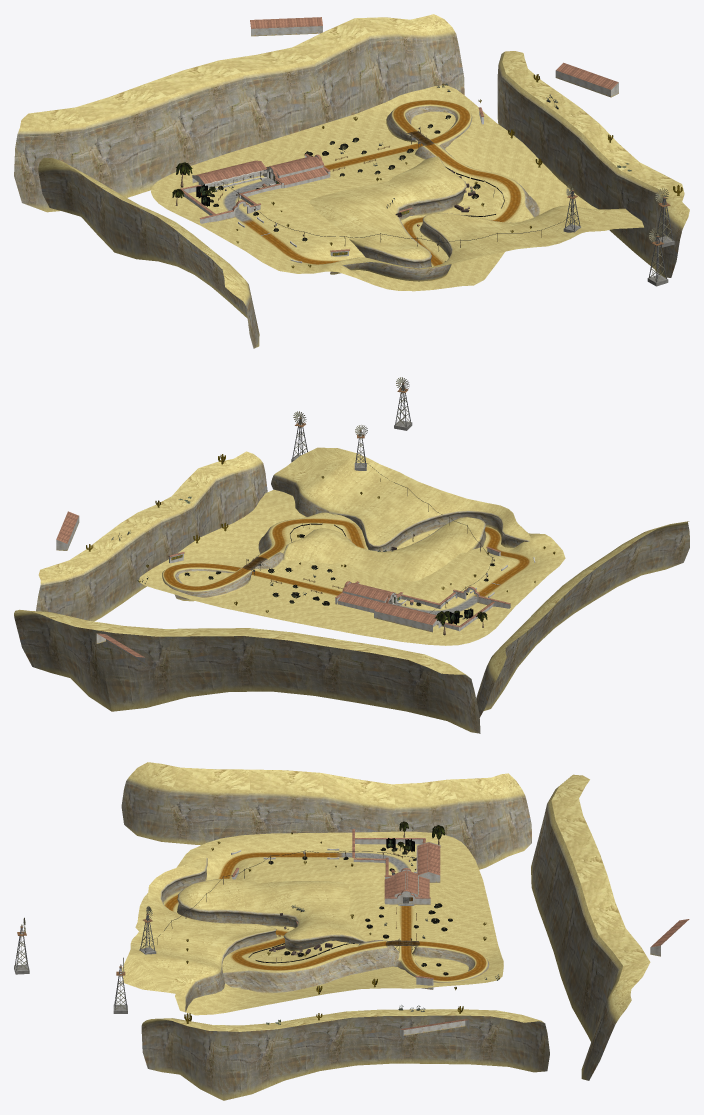
File: hacienda-scene.glb
3 views of the same model, one above another, from view 1: azimuth 30°, elevation 25°; view 2: azimuth 150°, elevation 25°; view 3: azimuth 270°, elevation 25° (orthographic). The views are drawn at different scales.
Bounding box in the file's own units: 580 × 150 × 668.
Materials: 58 (57 with a texture image).
